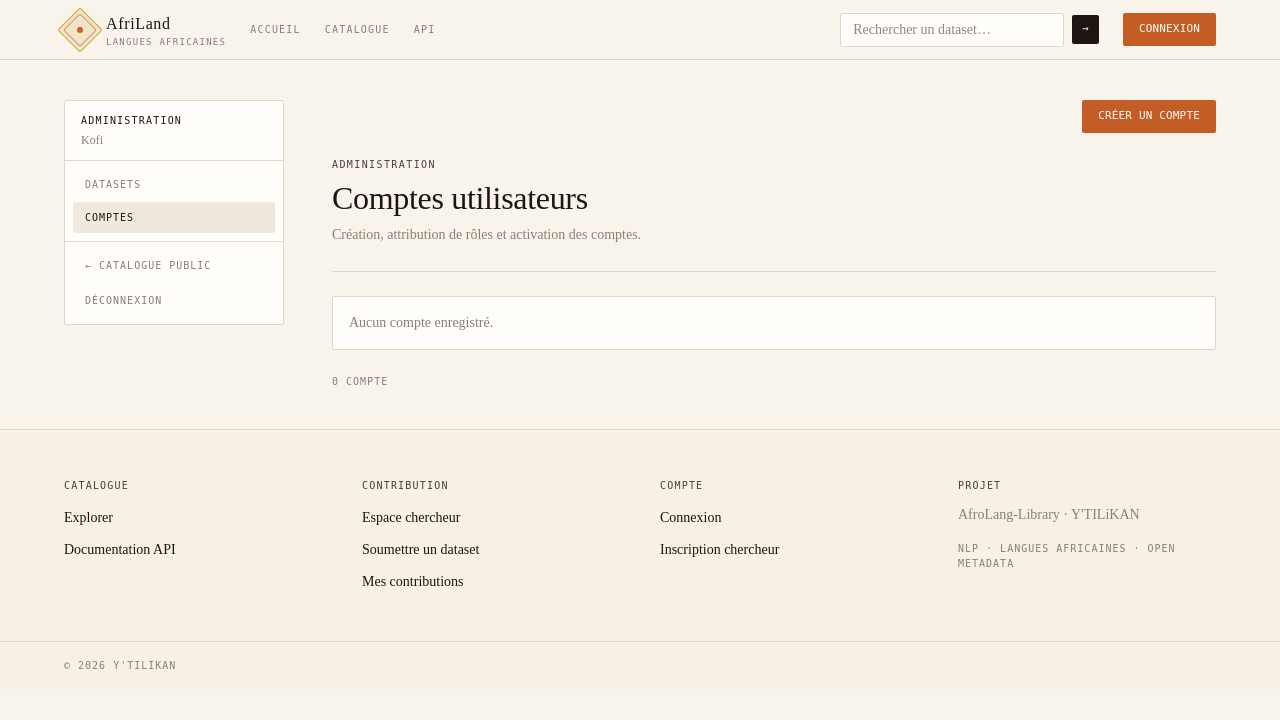
it: AccountAdminPanel (Story 4.4) › crée un compte en lui attribuant un rôle (FR-20)
The width and height of the screenshot is (1280, 720).
Click the button "Créer un compte" at (1149, 116), box [1082, 100, 1216, 132]
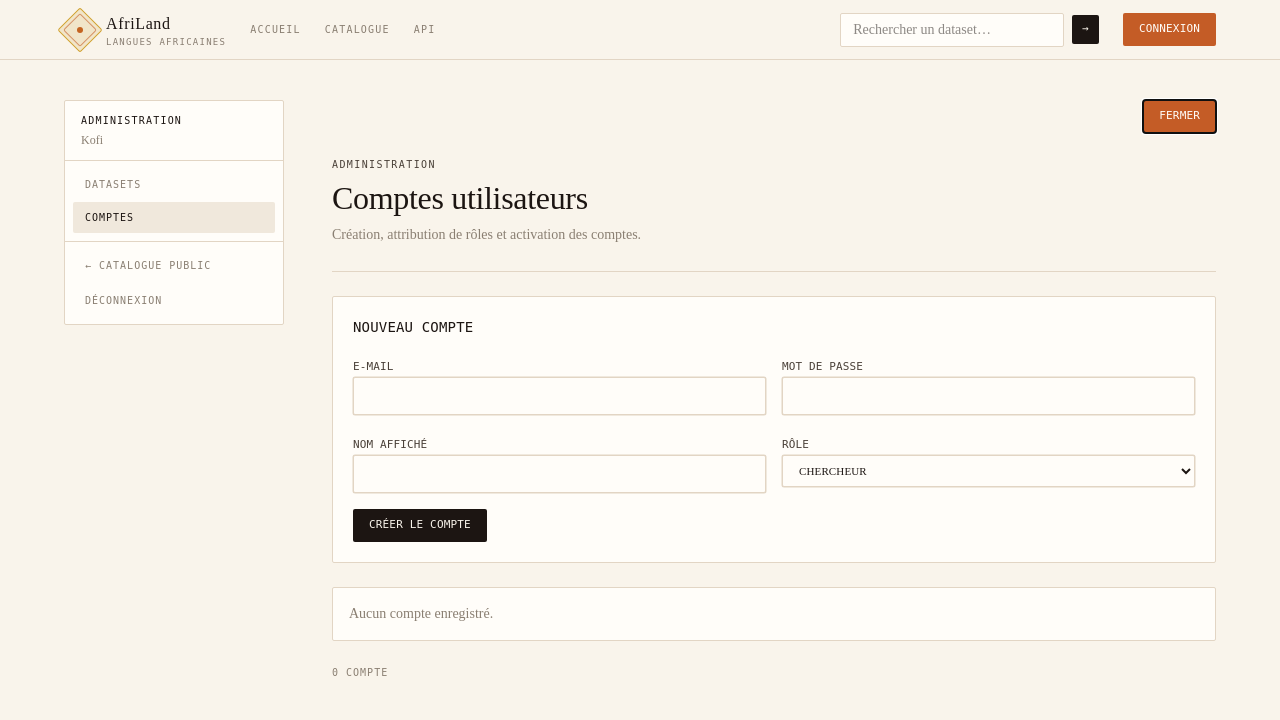
Type "aicha@university.org" into the field labelled "E-mail" at (560, 396), box [353, 377, 766, 415]
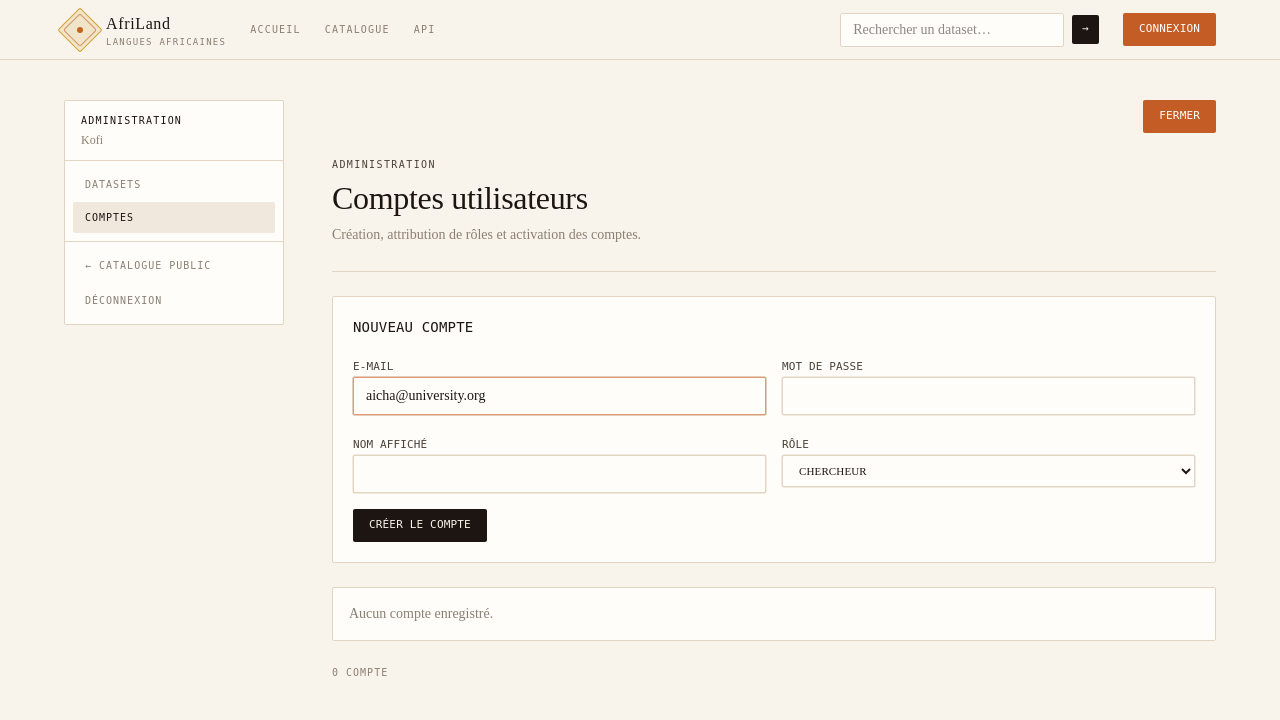
Type "password123" into the password field labelled "Mot de passe" at (988, 396), box [782, 377, 1195, 415]
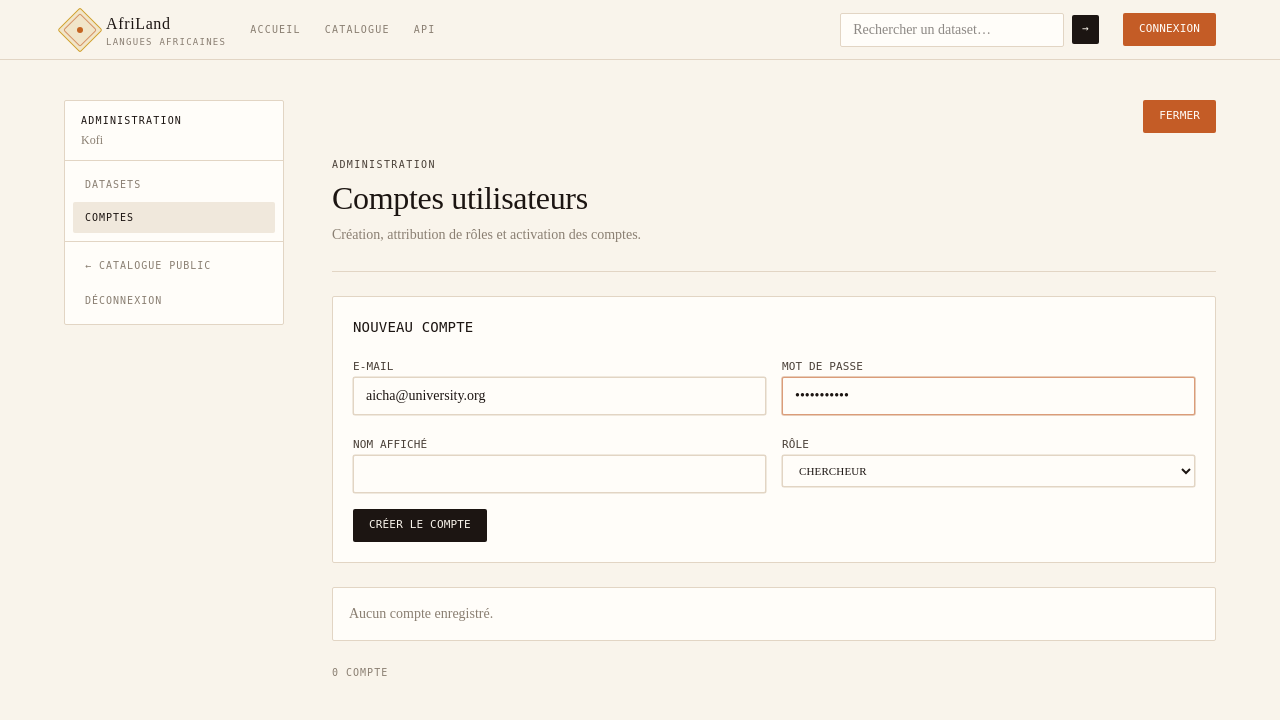
Type "Aïcha Diallo" into the field labelled "Nom affiché" at (560, 474), box [353, 455, 766, 493]
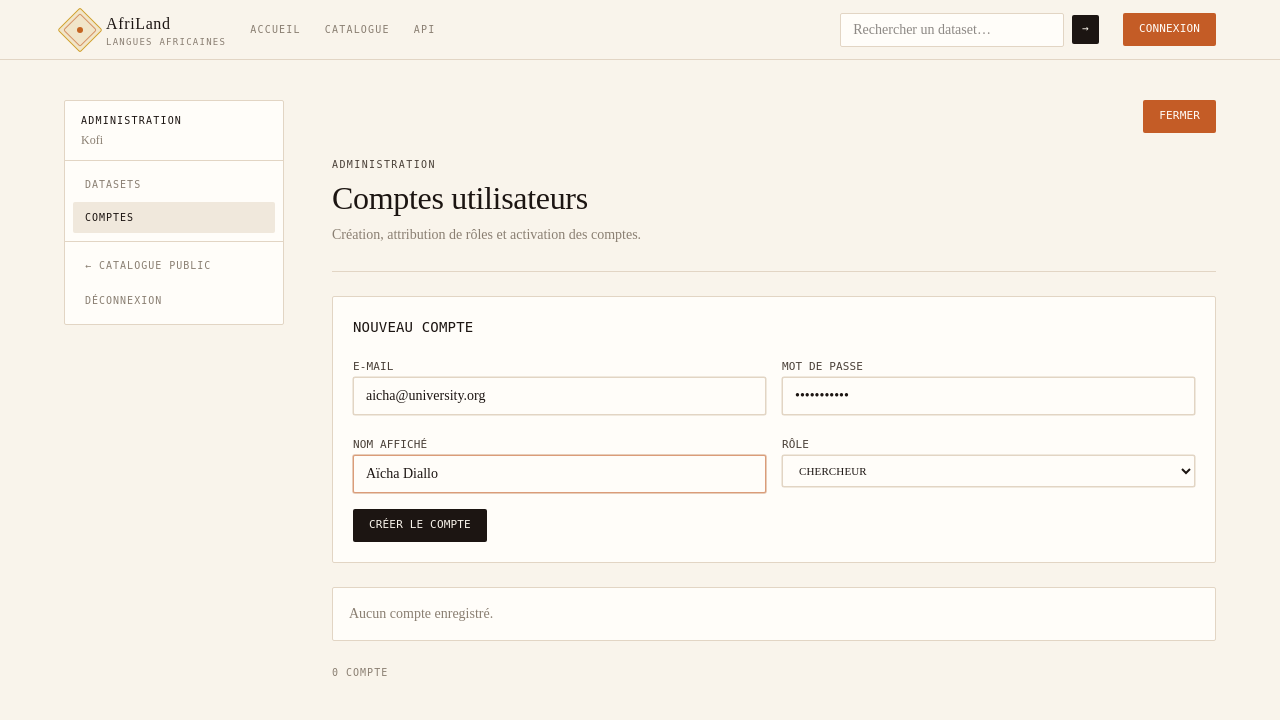
Select "admin" in the dropdown labelled "Rôle" at (988, 471), box [782, 455, 1195, 487]
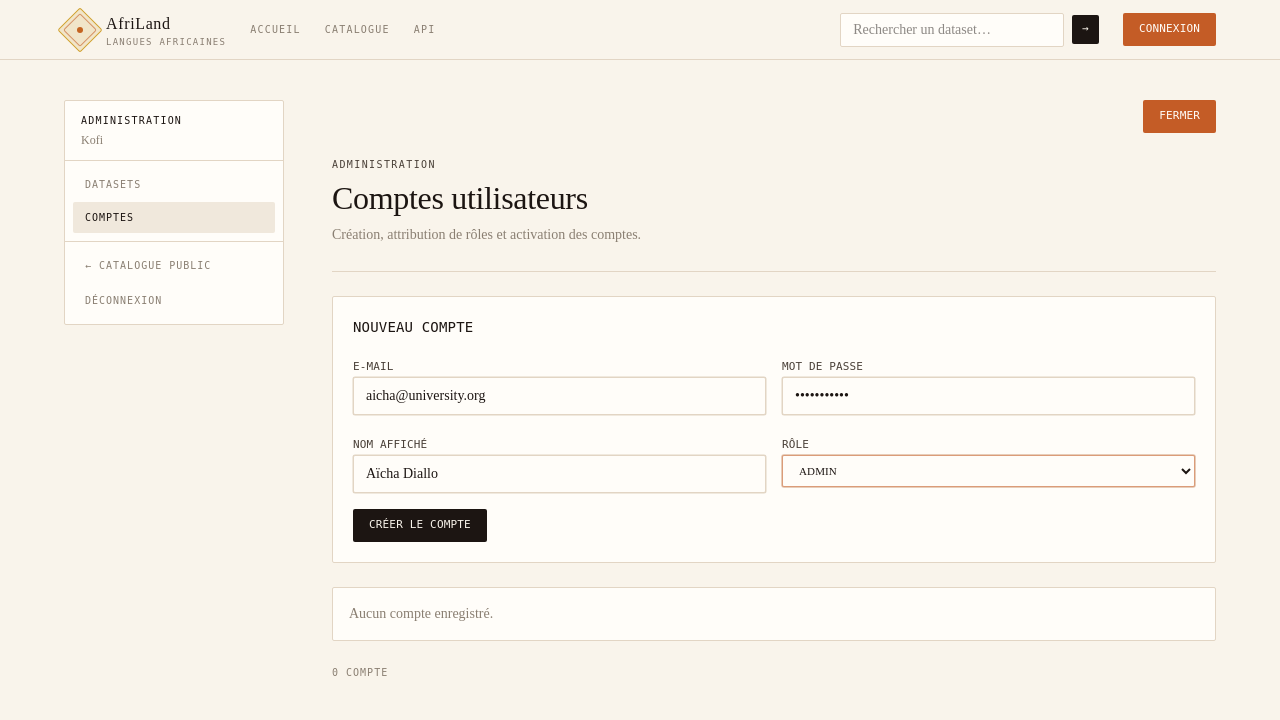
Click the button "Créer le compte" at (420, 525), box [353, 509, 487, 542]
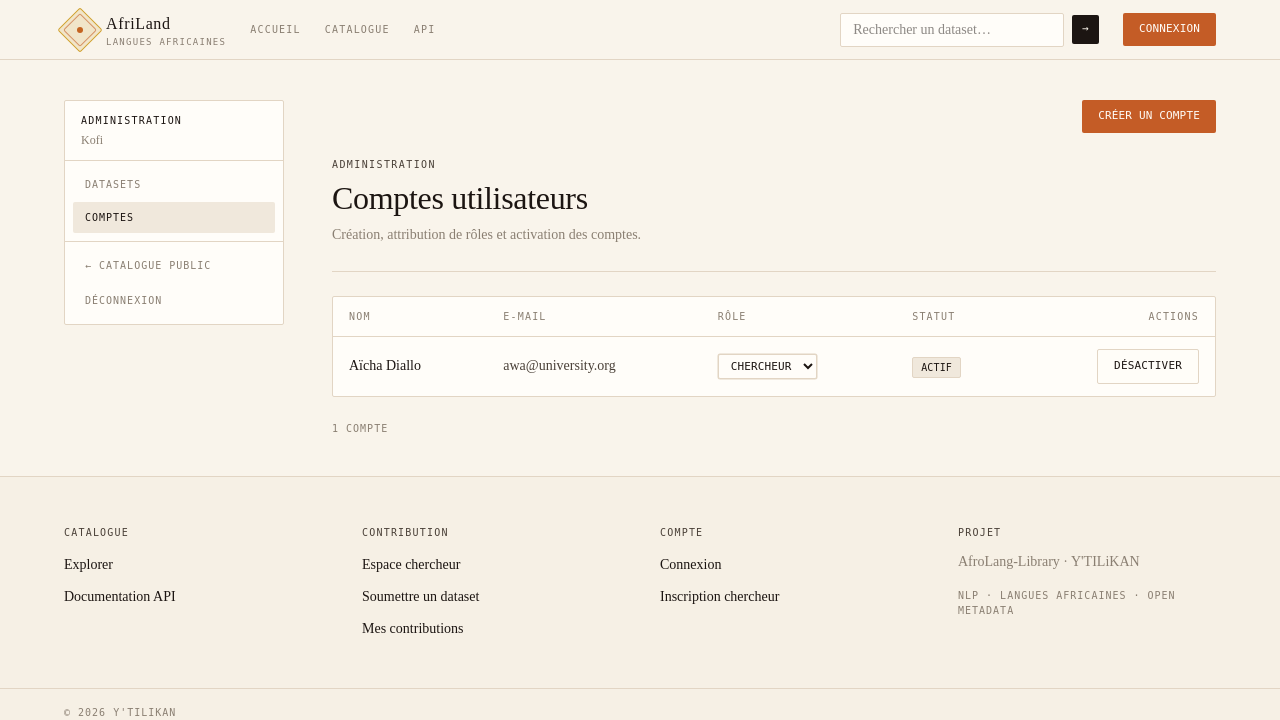
Expected: the text "Aïcha Diallo" is shown, [333, 336, 487, 396]
